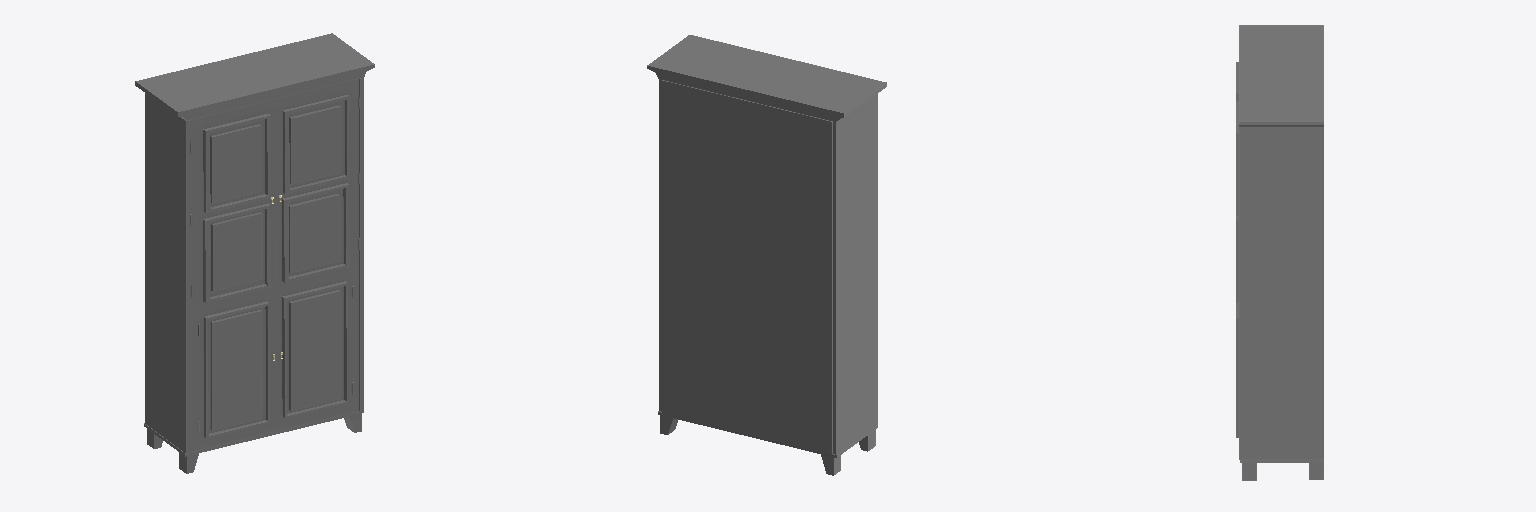
The picture shows the model from 3 angles: view 1: azimuth 30°, elevation 25°; view 2: azimuth 150°, elevation 25°; view 3: azimuth 270°, elevation 25°; orthographic projection.
Visible parts, largest first — view 1: solid_001; view 2: solid_001; view 3: solid_001.
Part boxes in pixels (x1,y1,x2,y2): solid_001: (135,33,374,473); solid_001: (647,35,886,475); solid_001: (1236,25,1323,480).
Bounding box in the file's own units: 0.8808 × 1.56 × 0.3438.
Materials: 1 (1 with a texture image).